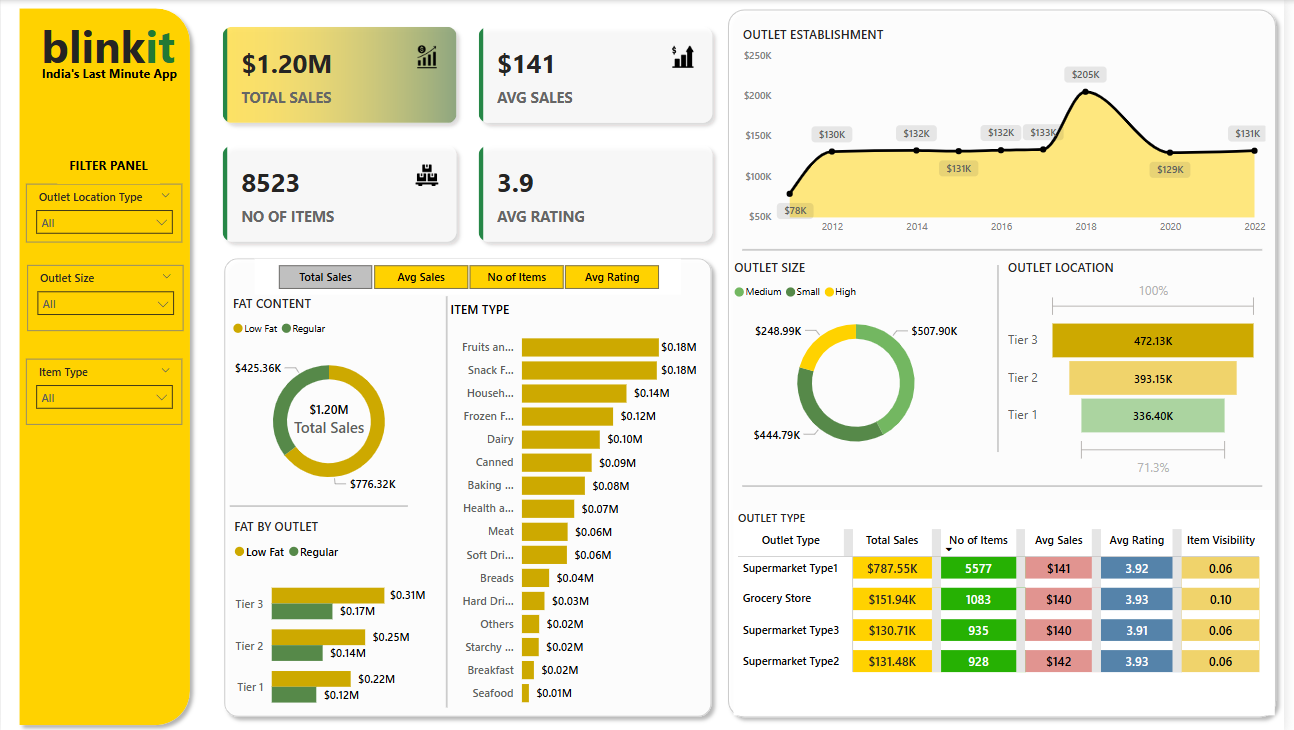

The page's visual inventory and layout, read from the dashboard file:
{"tool":"powerbi","page":{"name":"Page 1","canvas":[1400,800],"ordinal":0},"visuals":[{"type":"shape","box":[10.5,0,204.1,800],"z":0},{"type":"textbox","box":[262.7,0,204.1,333.2],"z":1000},{"type":"textbox","box":[31.5,12,171.1,79.5],"z":2000},{"type":"textbox","box":[39,66,175.6,49.5],"z":3000},{"type":"cardVisual","fields":{"Data":["BlinkIT Grocery Data.Total Sales","BlinkIT Grocery Data.Avg Sales","BlinkIT Grocery Data.No of Items","BlinkIT Grocery Data.Avg Rating"]},"box":[225,12.3,569.9,269.9],"z":4000},{"type":"shape","box":[234.5,272.7,549.4,518.1],"z":5000},{"type":"donutChart","title":"FAT CONTENT","fields":{"Y":["BlinkIT Grocery Data.Total Sales"],"Category":["BlinkIT Grocery Data.Item Fat Content"]},"box":[248.1,321.7,219.5,230.4],"z":6000},{"type":"slicer","fields":{"Values":["Metrics.Metrics"]},"box":[276.8,282.2,464.9,39.5],"z":7000},{"type":"cardVisual","fields":{"Data":["BlinkIT Grocery Data.Total Sales"]},"box":[301.3,419.9,113.2,68.2],"z":8000},{"type":"clusteredBarChart","title":"FAT BY OUTLET","fields":{"Y":["BlinkIT Grocery Data.Total Sales"],"Category":["BlinkIT Grocery Data.Outlet Location Type"],"Series":["BlinkIT Grocery Data.Item Fat Content"]},"box":[250,564.3,218.6,227.1],"z":9000},{"type":"shape","box":[250,525.7,194.3,51.4],"z":10000},{"type":"shape","box":[468.6,322.9,34.3,448.6],"z":11000},{"type":"barChart","title":"ITEM TYPE","fields":{"Y":["BlinkIT Grocery Data.Total Sales"],"Category":["BlinkIT Grocery Data.Item Type"]},"box":[485.7,328.6,278.6,452.9],"z":12000},{"type":"shape","box":[784.3,1.4,615.7,790],"z":13000},{"type":"lineChart","title":"OUTLET ESTABLISHMENT","fields":{"Y":["BlinkIT Grocery Data.Total Sales"],"Category":["BlinkIT Grocery Data.Outlet Establishment Year"]},"box":[804.3,28.6,580,235.7],"z":14000},{"type":"shape","box":[808.6,247.1,567.1,51.4],"z":15000},{"type":"donutChart","title":"OUTLET SIZE","fields":{"Y":["BlinkIT Grocery Data.Total Sales"],"Category":["BlinkIT Grocery Data.Outlet Size"]},"box":[794.3,282.9,275.7,225.7],"z":16000},{"type":"shape","box":[1070,288.6,34.3,204.3],"z":17000},{"type":"funnel","title":"OUTLET LOCATION","fields":{"Y":["Sum(BlinkIT Grocery Data.Sales)"],"Category":["BlinkIT Grocery Data.Outlet Location Type"]},"box":[1092.9,282.9,282.9,242.9],"z":18000},{"type":"shape","box":[808.6,504.3,567.1,51.4],"z":19000},{"type":"pivotTable","title":"OUTLET TYPE","fields":{"Values":["BlinkIT Grocery Data.Total Sales","BlinkIT Grocery Data.No of Items","BlinkIT Grocery Data.Avg Sales","BlinkIT Grocery Data.Avg Rating","Avg(BlinkIT Grocery Data.Item Visibility)"],"Rows":["BlinkIT Grocery Data.Outlet Type"]},"box":[798.6,555.7,590,224.3],"z":20000},{"type":"slicer","fields":{"Values":["BlinkIT Grocery Data.Outlet Location Type"]},"box":[27.3,200.4,170.4,64.1],"z":21000},{"type":"slicer","fields":{"Values":["BlinkIT Grocery Data.Outlet Size"]},"box":[28.6,289,170.4,72.3],"z":22000},{"type":"slicer","fields":{"Values":["BlinkIT Grocery Data.Item Type"]},"box":[27.3,391.3,170.4,72.3],"z":23000},{"type":"textbox","box":[61.4,166.3,111.8,34.1],"z":24000}]}

Visuals, with their boxes in screenshot pixels (x1, y1, x2, y2), scaled from the page's 1400x800 canvas onto the 1294x730 screenshot:
shape: bbox(10, 0, 198, 729)
textbox: bbox(243, 0, 431, 304)
textbox: bbox(29, 11, 187, 83)
textbox: bbox(36, 60, 198, 105)
cardVisual - BlinkIT Grocery Data.Total Sales x BlinkIT Grocery Data.Avg Sales: bbox(208, 11, 735, 258)
shape: bbox(217, 249, 725, 722)
"FAT CONTENT" donutChart: bbox(229, 294, 432, 504)
slicer - Metrics.Metrics: bbox(256, 258, 686, 294)
cardVisual - BlinkIT Grocery Data.Total Sales: bbox(278, 383, 383, 445)
"FAT BY OUTLET" clusteredBarChart: bbox(231, 515, 433, 722)
shape: bbox(231, 480, 411, 527)
shape: bbox(433, 295, 465, 704)
"ITEM TYPE" barChart: bbox(449, 300, 706, 713)
shape: bbox(725, 1, 1293, 722)
"OUTLET ESTABLISHMENT" lineChart: bbox(743, 26, 1279, 241)
shape: bbox(747, 225, 1272, 272)
"OUTLET SIZE" donutChart: bbox(734, 258, 989, 464)
shape: bbox(989, 263, 1021, 450)
"OUTLET LOCATION" funnel: bbox(1010, 258, 1272, 480)
shape: bbox(747, 460, 1272, 507)
"OUTLET TYPE" pivotTable: bbox(738, 507, 1283, 712)
slicer - BlinkIT Grocery Data.Outlet Location Type: bbox(25, 183, 183, 241)
slicer - BlinkIT Grocery Data.Outlet Size: bbox(26, 264, 184, 330)
slicer - BlinkIT Grocery Data.Item Type: bbox(25, 357, 183, 423)
textbox: bbox(57, 152, 160, 183)
